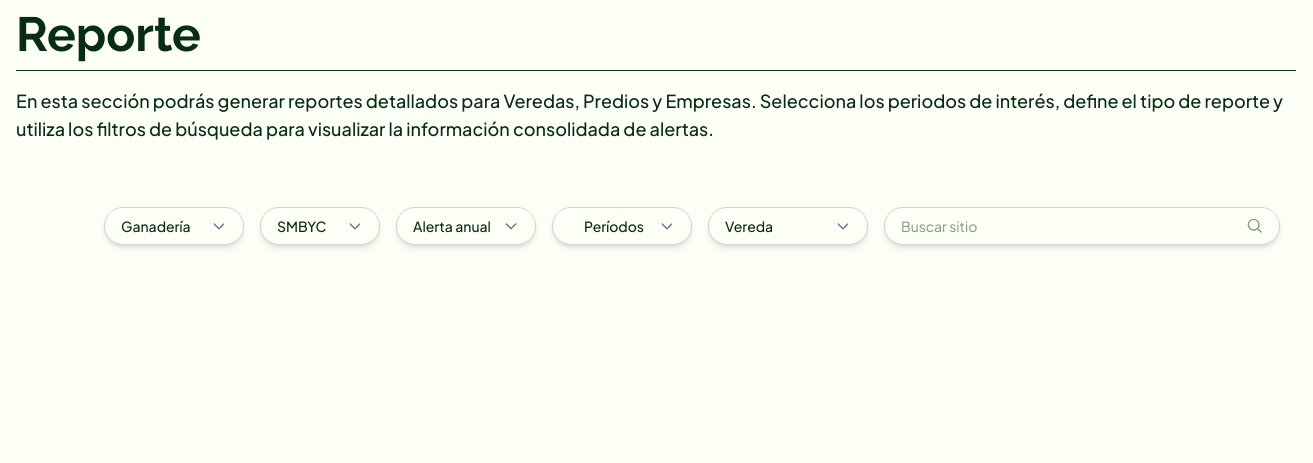
Test case: Reporte › the generate button › pluralises the period counter
Expected: the text "Vereda" is shown, top-left (725, 217), bottom-right (773, 235)
Click the button "Períodos": (622, 226) top-left (552, 207), bottom-right (692, 245)
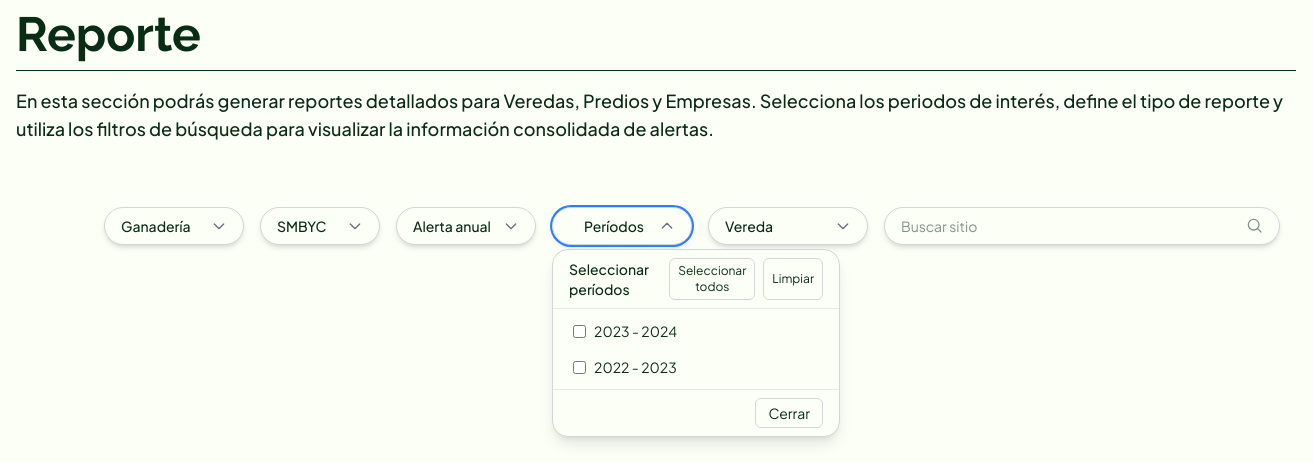
Click the button "Seleccionar todos": (712, 279) top-left (669, 258), bottom-right (755, 300)
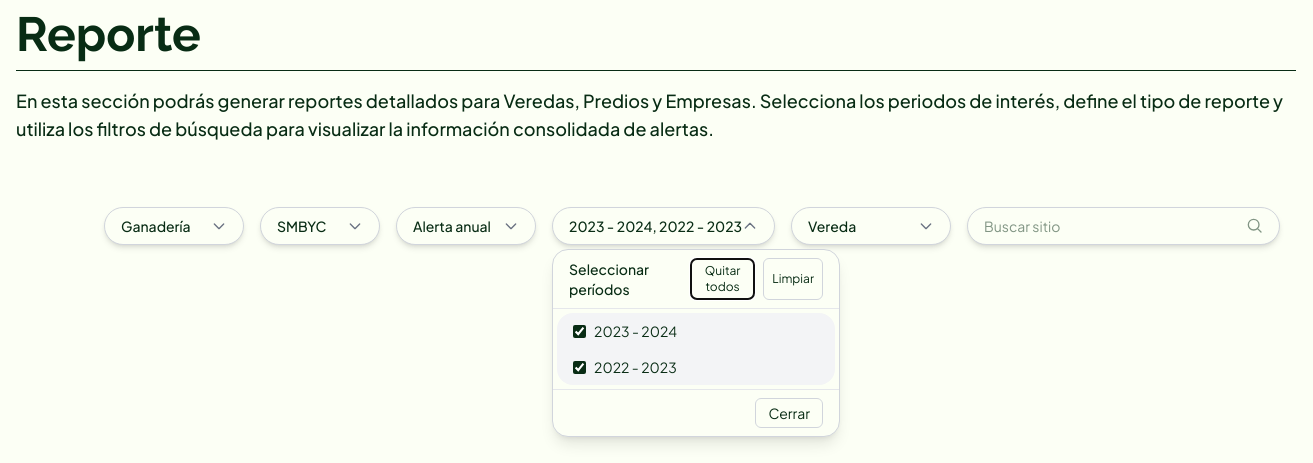
Click the button "Cerrar": (789, 413) top-left (755, 398), bottom-right (823, 428)
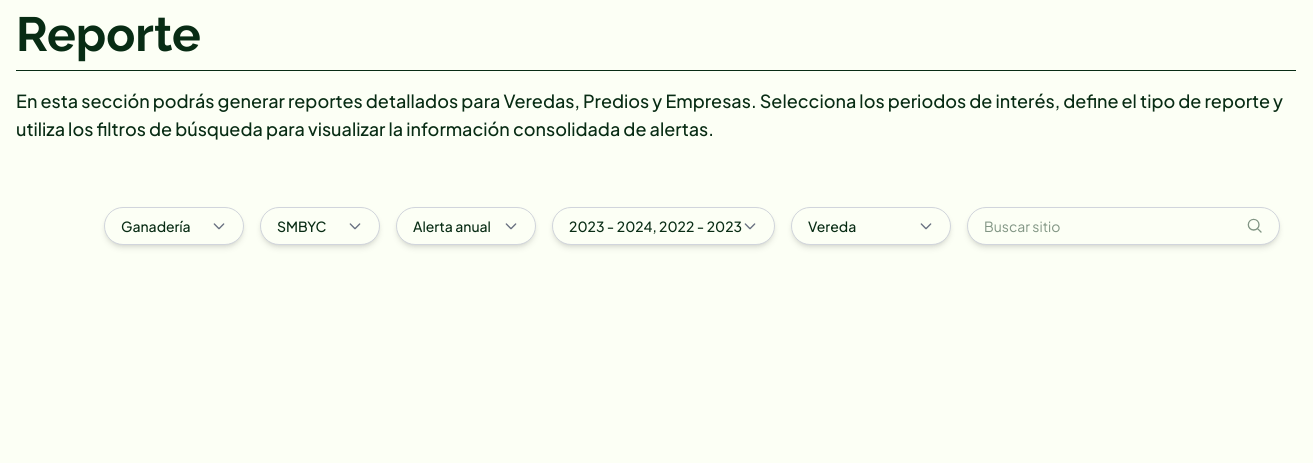
In the field: (1104, 226) top-left (968, 208), bottom-right (1239, 244), type "Retorno"
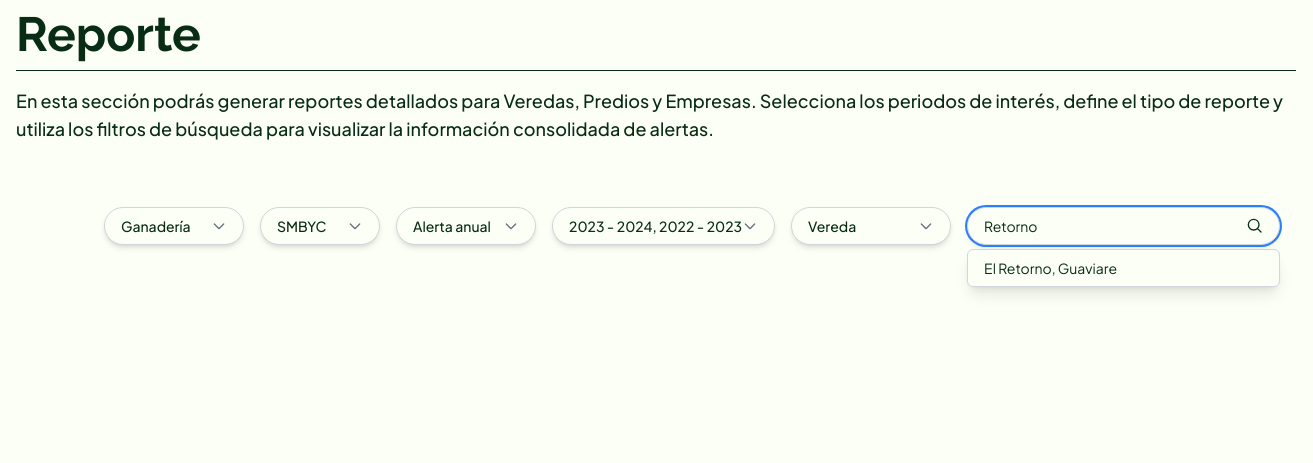
Click the option "El Retorno, Guaviare": (1051, 268) top-left (984, 259), bottom-right (1117, 277)
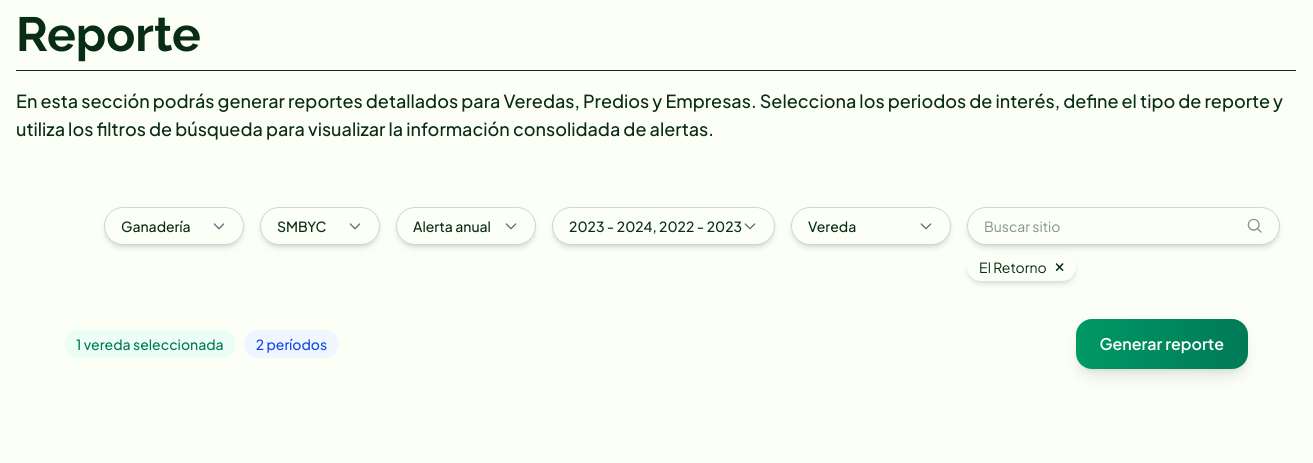
Expected: the text "2 períodos" is shown, top-left (244, 330), bottom-right (339, 358)
